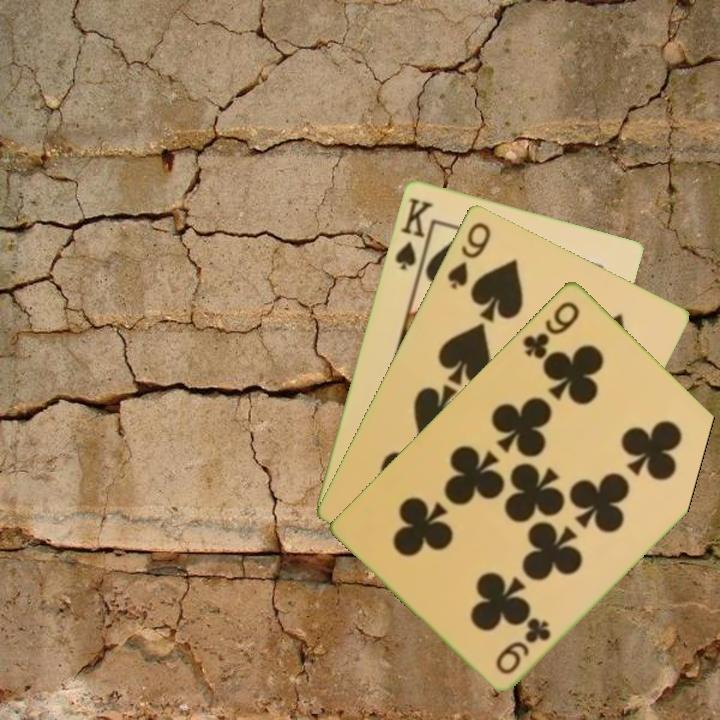9c: (519, 297, 583, 362), (492, 613, 554, 677)
9s: (443, 218, 494, 292)
Ks: (391, 193, 436, 276)
